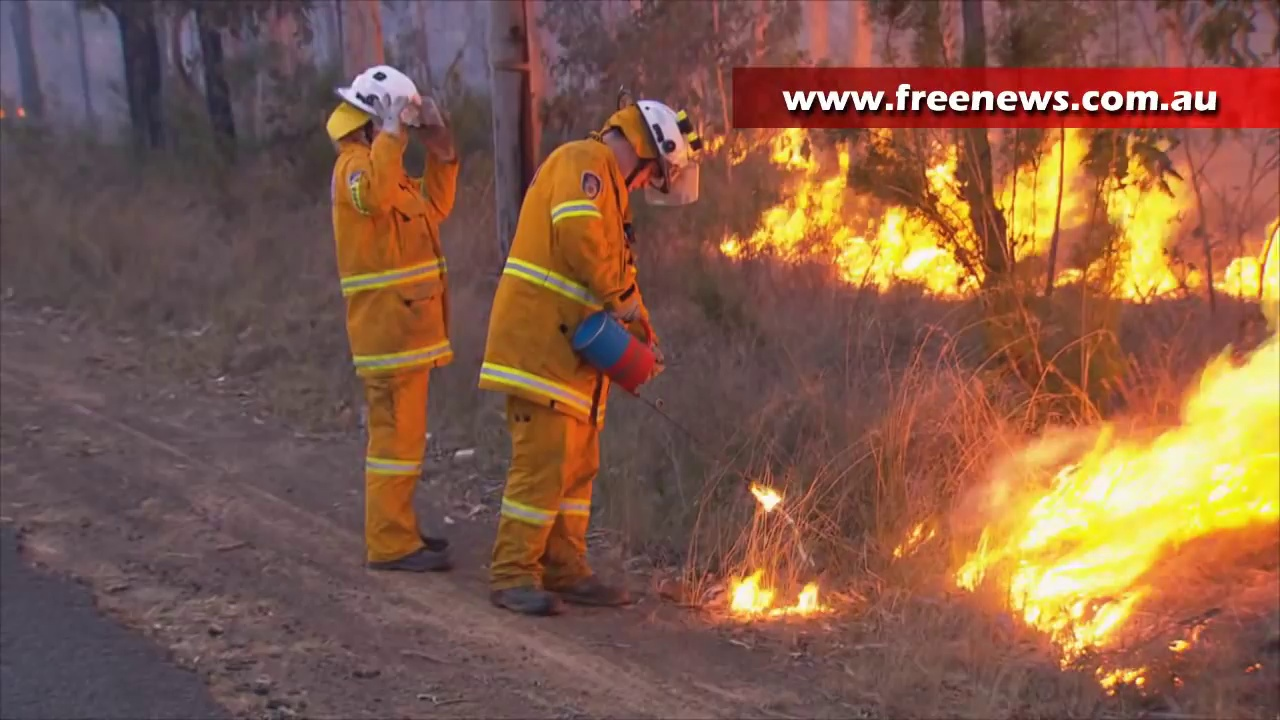fire: (1002, 335, 1280, 630), (1000, 126, 1190, 298), (753, 152, 979, 291), (1236, 227, 1280, 301), (734, 574, 765, 613), (777, 129, 807, 167), (954, 552, 983, 589), (752, 480, 779, 508), (798, 583, 819, 610), (1108, 667, 1140, 680)
